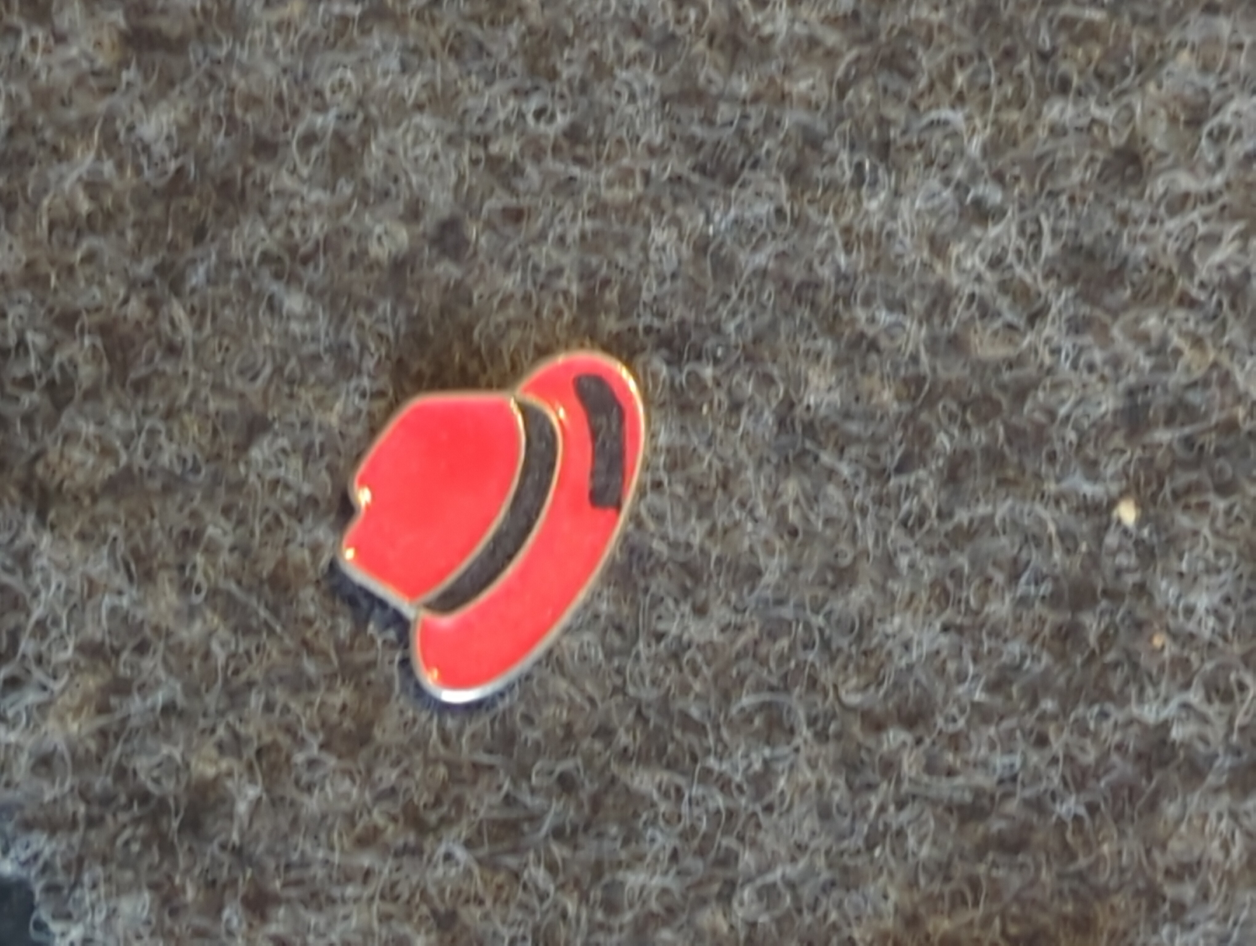Red-Hat: (253, 240, 823, 729)
Scratch: (517, 331, 685, 548)
